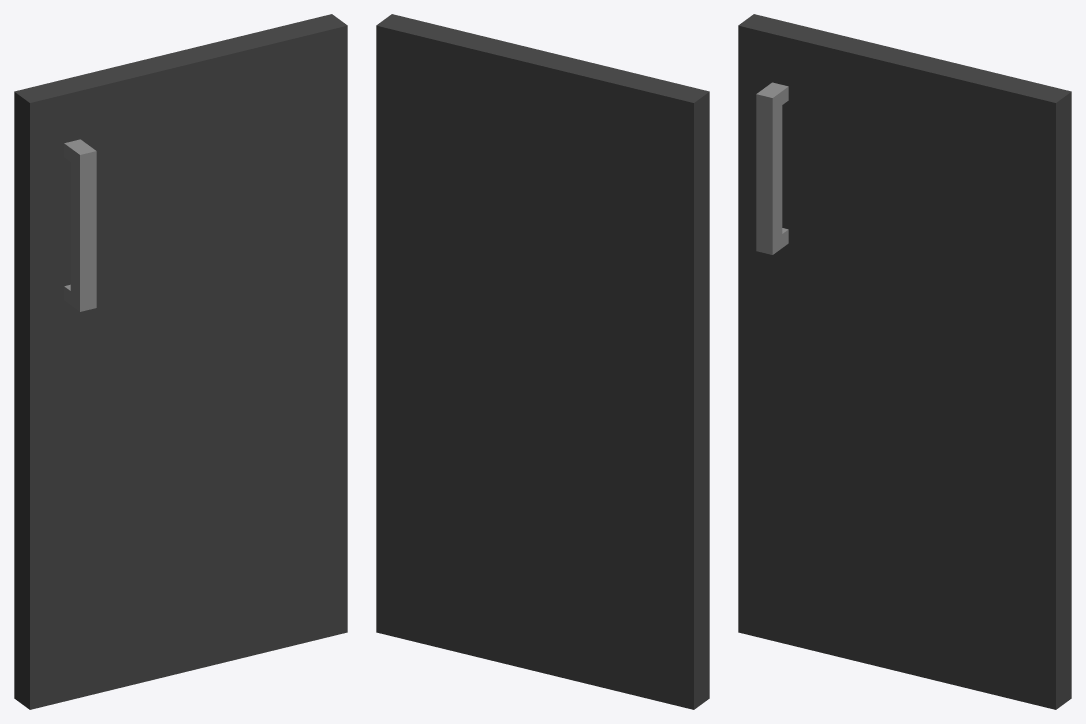
Rendered from Door1_C3_09.fbx.
3 views of the same model, side by side, from view 1: azimuth 30°, elevation 25°; view 2: azimuth 150°, elevation 25°; view 3: azimuth 330°, elevation 25° (orthographic).
Parts seen in each view (by area): view 1: Door1_C3_09; view 2: Door1_C3_09; view 3: Door1_C3_09.
Part boxes in pixels (box(x1,y1,x2,y2)): Door1_C3_09: box(14, 14, 347, 709); Door1_C3_09: box(376, 14, 709, 709); Door1_C3_09: box(738, 14, 1071, 709).
Bounding box in the file's own units: 29 × 52.92 × 5.03.
